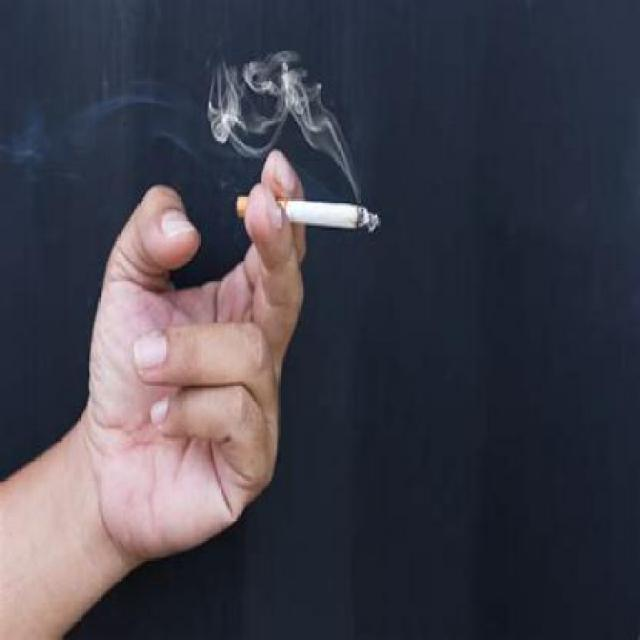cigarette: (234, 192, 386, 239)
